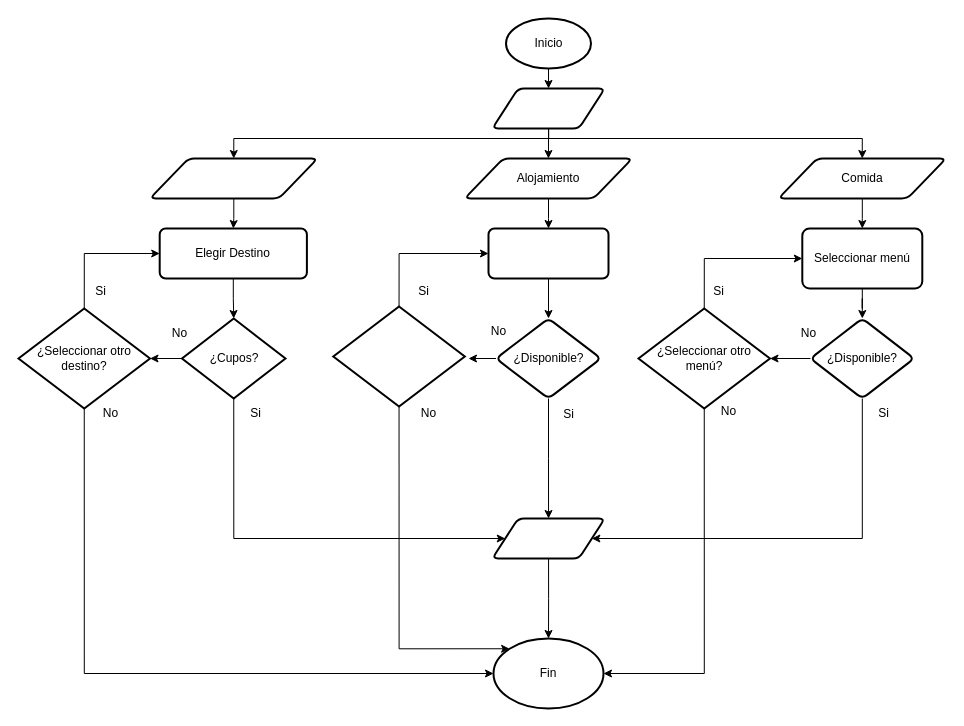
Image size: 964x726. Some labels were removed from this diagram. Each missing label, with the centre of its shape:
"Excurciones" belongs at (x=233, y=178).
"Registrado" belongs at (x=548, y=538).
"Registrar" belongs at (x=548, y=108).
"Seleccionar Habitación" belongs at (x=548, y=253).
"¿Seleccionar otra habitación ?" belongs at (x=398, y=356).
